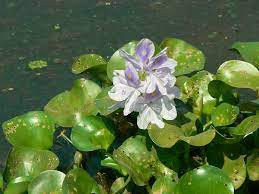water_hyacinth: (0, 35, 259, 194)
